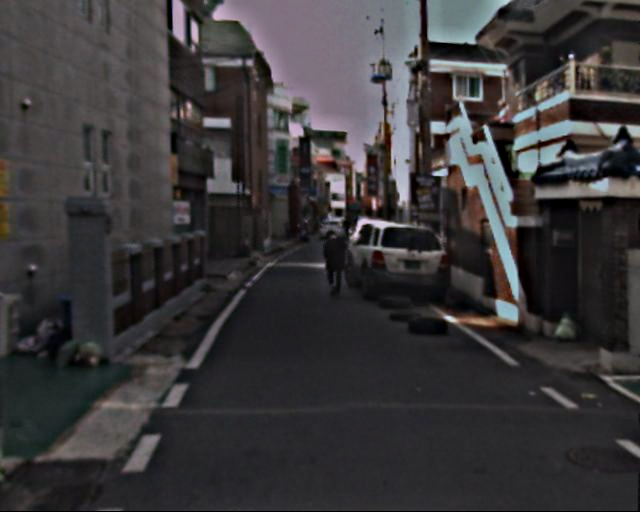person: (320, 229, 348, 298)
